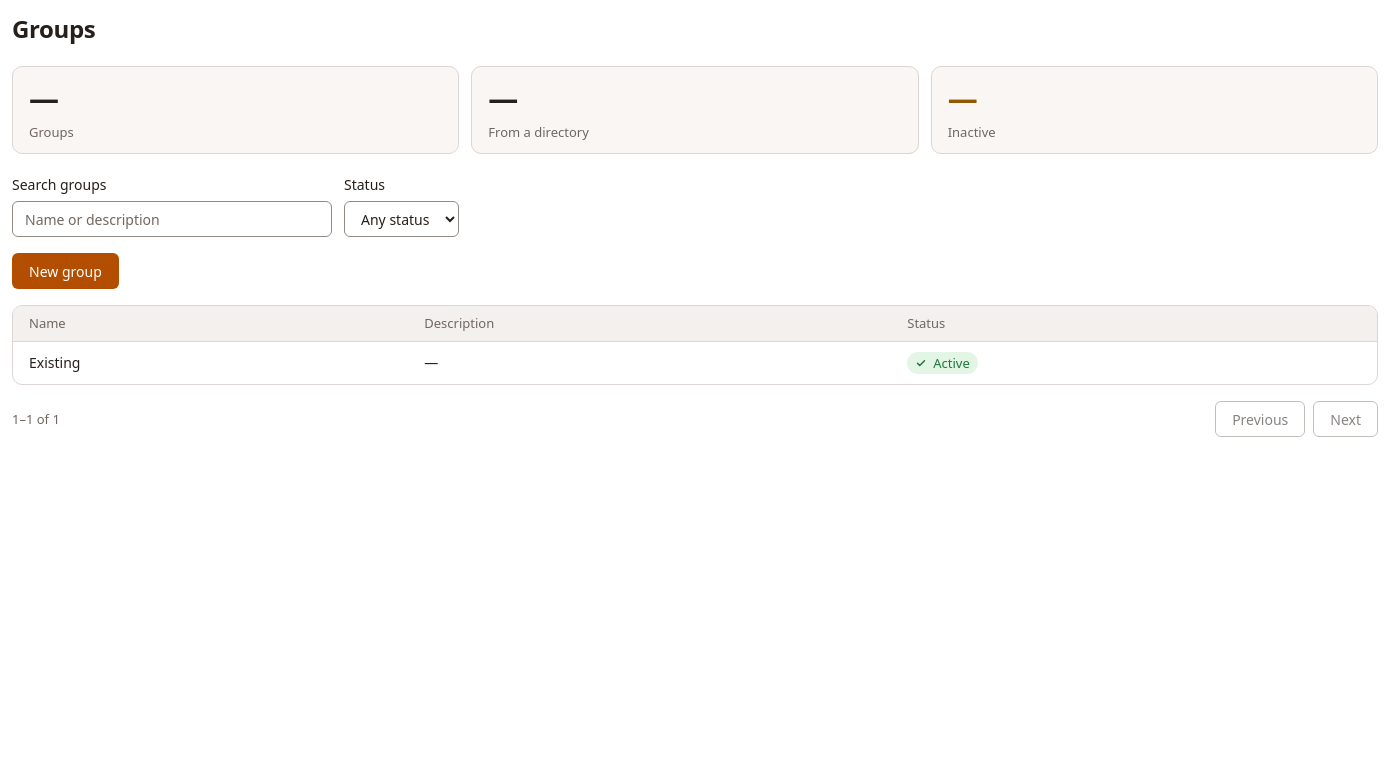
Test case: creating from a directory listing page › marks the offending field when the server refuses, not a banner
The image size is (1390, 780).
Expected: the link "Existing" is shown, [29,353,80,372]
Click the button "New group" at (65, 271), box [12,253,119,289]
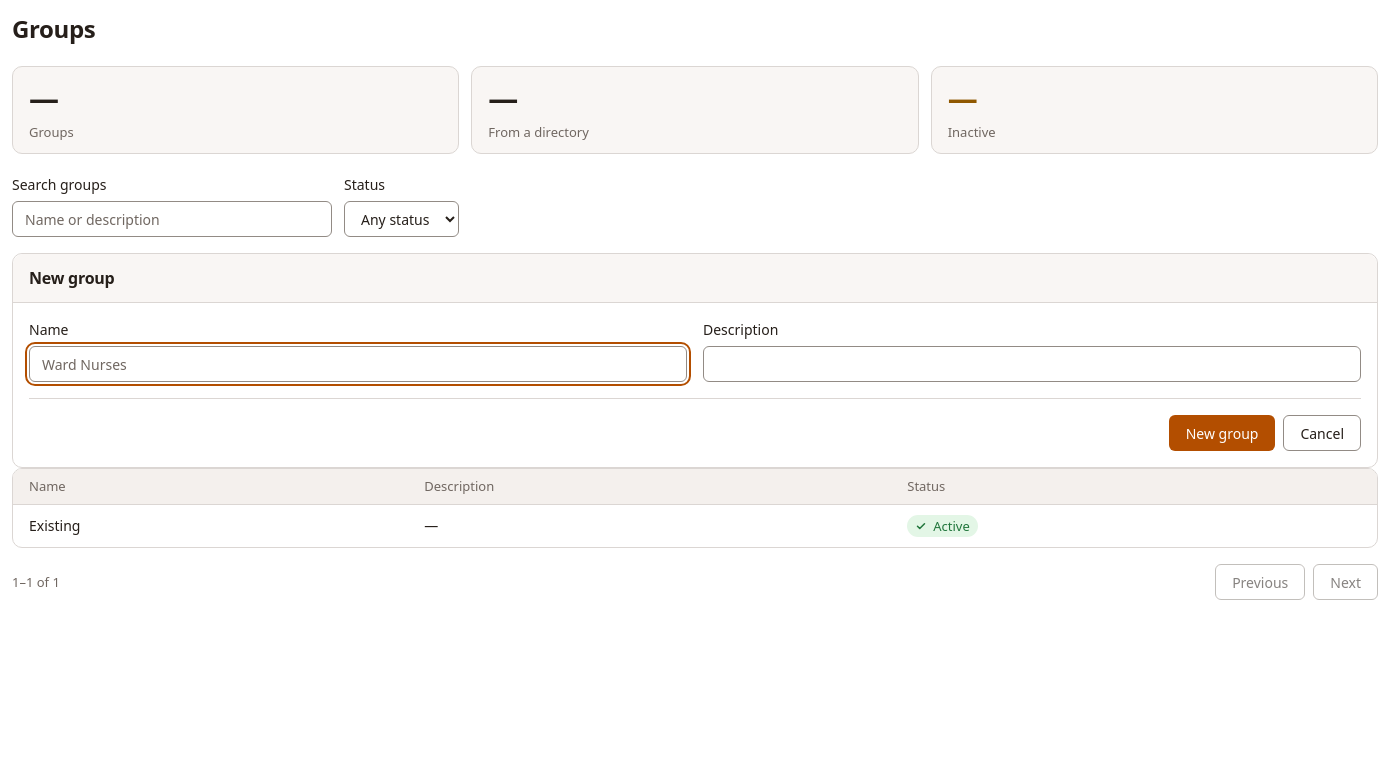
Type "Existing" into the field labelled "Name" at (358, 364), box [29,346,687,382]
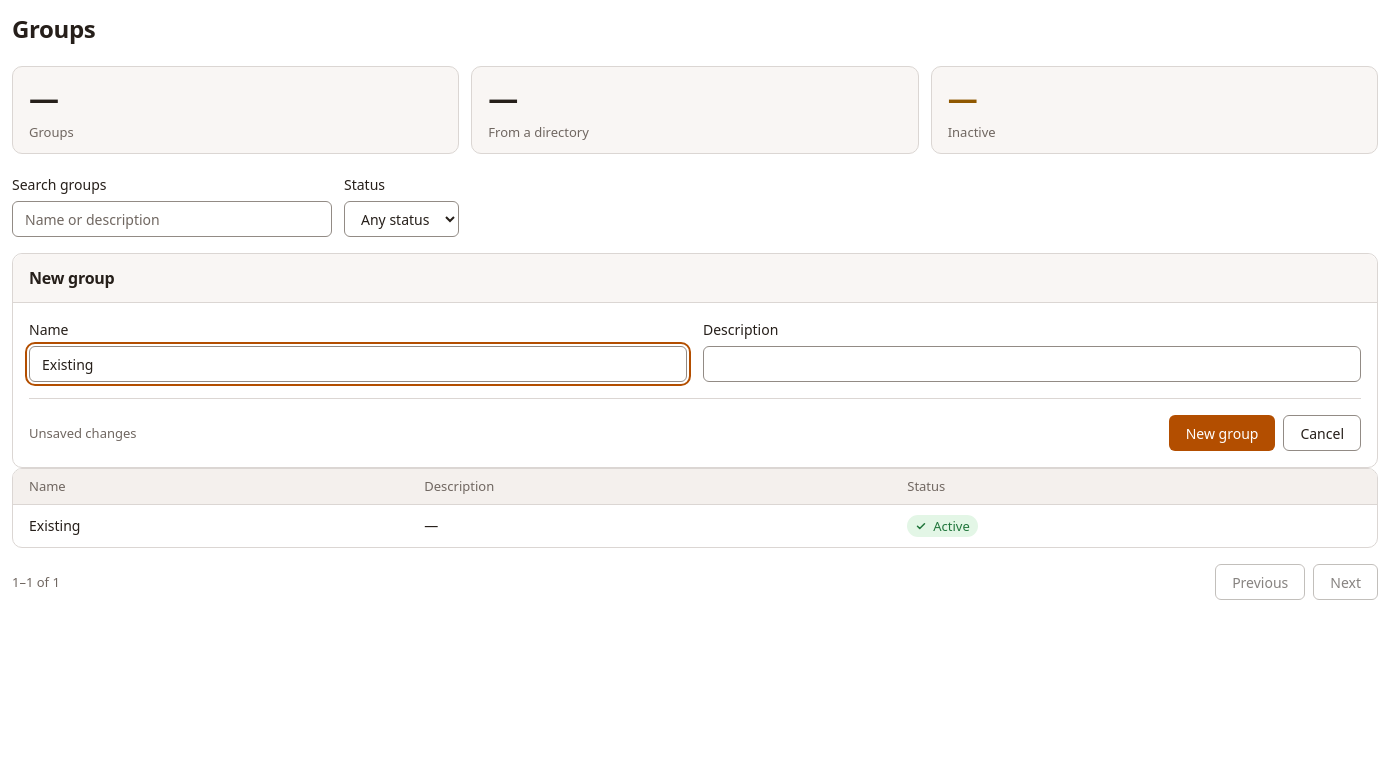
Click the button "New group" at (1222, 433), box [1169,415,1276,451]
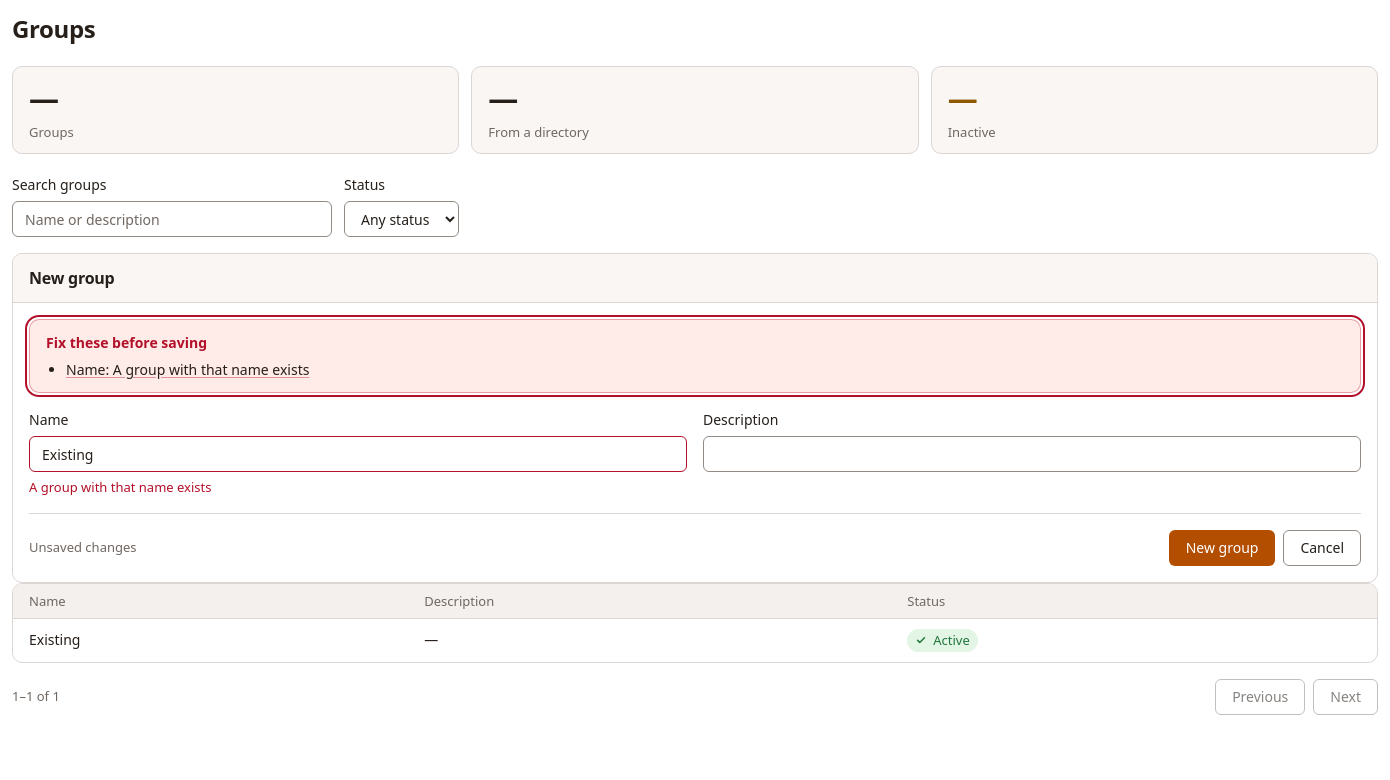
Expected: the text "A group with that name exists" is shown, [29,478,212,496]
